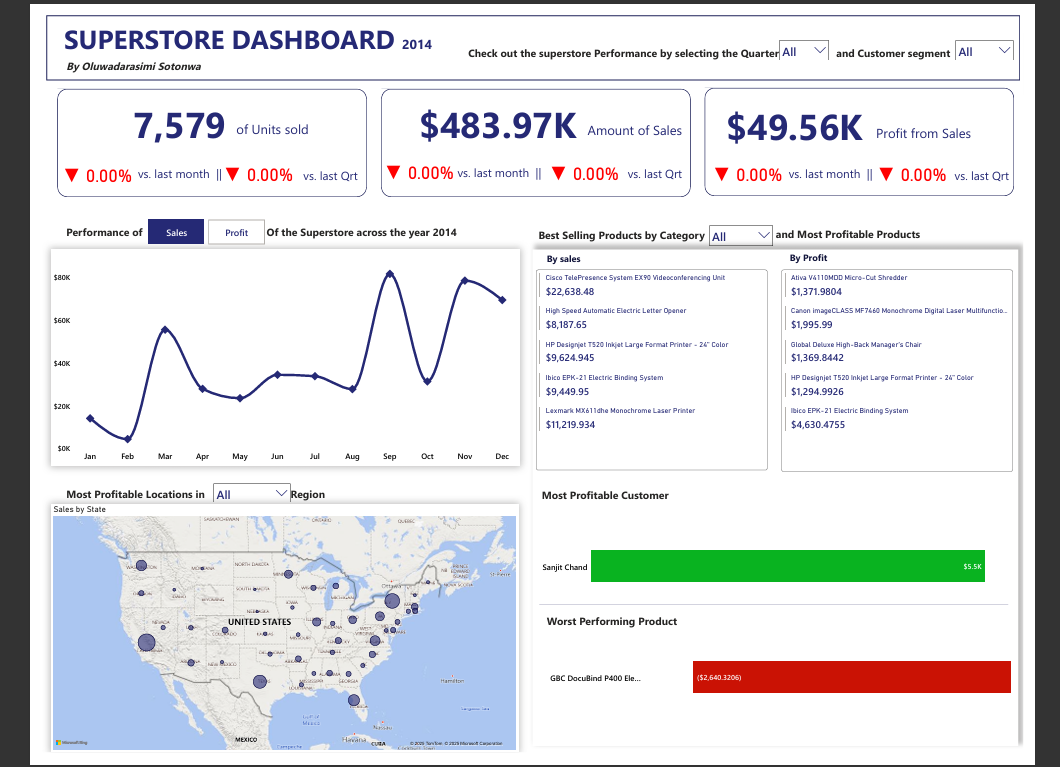

What the dashboard file says about the page in this screenshot:
{"tool":"powerbi","page":{"name":"Page 3","canvas":[2000,1500],"ordinal":0},"visuals":[{"type":"shape","box":[1000,476.2,990.5,1011.9],"z":0},{"type":"shape","box":[31.8,148.8,630,220],"z":1000},{"type":"shape","box":[9.5,0,1983.3,131],"z":2000},{"type":"textbox","box":[40.4,4.3,870.2,100],"z":3000},{"type":"card","fields":{"Values":["_Sales_Measures.Total units sold"]},"box":[115.6,151.8,330,130],"z":4000},{"type":"shape","box":[691.5,148.8,630,220],"z":5000},{"type":"card","fields":{"Values":["_Sales_Measures.Total sum of sales"]},"box":[751.2,151.2,355.8,130.2],"z":6000},{"type":"textbox","box":[383.7,207,286,79.1],"z":7000},{"type":"textbox","box":[1107,209.3,230.2,60.5],"z":8000},{"type":"card","fields":{"Values":["_Sales_Measures.MomSales trend icon"]},"box":[679.1,278.6,179.1,76.7],"z":9000},{"type":"textbox","box":[841.9,297.2,230.2,60.5],"z":10000},{"type":"shape","box":[1351.2,146.5,630.2,220.9],"z":11000},{"type":"card","fields":{"Values":["_Profit_measures.Total sum of profit"]},"box":[1355.8,155.8,355.8,130],"z":12000},{"type":"textbox","box":[1695.3,214,230.2,60.5],"z":13000},{"type":"card","fields":{"Values":["_Profit_measures.MomProfit trend icon"]},"box":[1346.8,283,180.9,76.6],"z":14000},{"type":"textbox","box":[1517,300,229.8,59.6],"z":15000},{"type":"textbox","box":[864.3,54.8,764.3,47.6],"z":16000},{"type":"textbox","box":[1519,473.8,300,47.6],"z":17000},{"type":"card","fields":{"Values":["_Sales_Measures.MomQty trend icon"]},"box":[23.3,283.7,179.1,76.7],"z":18000},{"type":"card","fields":{"Values":["_Sales_Measures.QOQSales trend icon"]},"box":[1014.9,280.9,178.7,76.6],"z":19000},{"type":"card","fields":{"Values":["_Profit_measures.QOQProfit trend icon"]},"box":[1683,283,178.7,76.6],"z":20000},{"type":"textbox","box":[1189.4,300,159.6,61.7],"z":21000},{"type":"textbox","box":[1855.3,304.3,138.3,61.7],"z":22000},{"type":"textbox","box":[527.7,304.3,159.6,61.7],"z":23000},{"type":"textbox","box":[191.5,300,231.9,59.6],"z":24000},{"type":"card","fields":{"Values":["_Sales_Measures.QOQQty trend icon"]},"box":[351.1,283,178.7,76.6],"z":25000},{"type":"lineChart","fields":{"Y":["_Sales_Measures.Total sum of sales"],"Category":["Date.Month_name","Date.Weekday"]},"box":[19,476.2,954.8,440.5],"z":26000},{"type":"advancedSlicerVisual","fields":{"Values":["Overview.Overview"]},"box":[212.8,410.6,246.8,59.6],"z":27000},{"type":"multiRowCard","fields":{"Values":["Products.Product Name","_Sales_Measures.Total sum of sales"]},"box":[1007.1,516.7,471.4,409.5],"z":28000},{"type":"multiRowCard","fields":{"Values":["Products.Product Name","_Profit_measures.Total sum of profit"]},"box":[1507.1,516.7,471.4,411.9],"z":29000},{"type":"clusteredBarChart","fields":{"Category":["Customers.Customer Name"],"Y":["_Profit_measures.Total sum of profit"]},"box":[1014.3,985.7,964.3,266.7],"z":30000},{"type":"map","fields":{"Size":["_Sales_Measures.Total sum of sales"],"Category":["Country.State"]},"box":[19,995.2,952.4,504.8],"z":31000},{"type":"textbox","box":[1007.1,426.2,490.5,47.6],"z":32000},{"type":"textbox","box":[1478.6,423.8,502.4,47.6],"z":33000},{"type":"textbox","box":[45.2,421.4,197.6,54.8],"z":34000},{"type":"textbox","box":[453.2,421.3,446.8,51.1],"z":35000},{"type":"clusteredBarChart","fields":{"Category":["Products.Product Name"],"Y":["_Profit_measures.Total sum of profit"]},"box":[1014.3,1214.3,964.3,264.3],"z":36000},{"type":"slicer","fields":{"Values":["Segments.Segment"]},"box":[1852.4,40.5,138.1,50],"z":37000},{"type":"textbox","box":[45.2,954.8,309.5,50],"z":38000},{"type":"textbox","box":[1023.8,1214.3,495.2,50],"z":39000},{"type":"slicer","fields":{"Values":["Regions.Region"]},"box":[340.5,942.9,176.2,47.6],"z":40000},{"type":"textbox","box":[502.4,954.8,207.1,47.6],"z":41000},{"type":"textbox","box":[1014.3,957.1,361.9,50],"z":42000},{"type":"shape","box":[1014.3,1181,954.8,35.7],"z":43000},{"type":"textbox","box":[44.7,83,466,48.9],"z":44000},{"type":"textbox","box":[1023.8,476.2,300,47.6],"z":45000},{"type":"slicer","fields":{"Values":["Products.Category"]},"box":[1350,416.7,150,59.5],"z":46000},{"type":"textbox","box":[1614.3,54.8,273.8,54.8],"z":47000},{"type":"slicer","fields":{"Values":["Date.Quarter"]},"box":[1492.9,40.5,121.4,50],"z":48000}]}

Visuals, with their boxes on the page's 2000x1500 design canvas (x1, y1, x2, y2). These are canvas units, not pixel positions in the 1060x767 screenshot, which may show the page scaled, cropped or inside an application window:
shape: (left=1000, top=476, right=1990, bottom=1488)
shape: (left=32, top=149, right=662, bottom=369)
shape: (left=10, top=0, right=1993, bottom=131)
textbox: (left=40, top=4, right=911, bottom=104)
card - _Sales_Measures.Total units sold: (left=116, top=152, right=446, bottom=282)
shape: (left=692, top=149, right=1322, bottom=369)
card - _Sales_Measures.Total sum of sales: (left=751, top=151, right=1107, bottom=281)
textbox: (left=384, top=207, right=670, bottom=286)
textbox: (left=1107, top=209, right=1337, bottom=270)
card - _Sales_Measures.MomSales trend icon: (left=679, top=279, right=858, bottom=355)
textbox: (left=842, top=297, right=1072, bottom=358)
shape: (left=1351, top=146, right=1981, bottom=367)
card - _Profit_measures.Total sum of profit: (left=1356, top=156, right=1712, bottom=286)
textbox: (left=1695, top=214, right=1926, bottom=274)
card - _Profit_measures.MomProfit trend icon: (left=1347, top=283, right=1528, bottom=360)
textbox: (left=1517, top=300, right=1747, bottom=360)
textbox: (left=864, top=55, right=1629, bottom=102)
textbox: (left=1519, top=474, right=1819, bottom=521)
card - _Sales_Measures.MomQty trend icon: (left=23, top=284, right=202, bottom=360)
card - _Sales_Measures.QOQSales trend icon: (left=1015, top=281, right=1194, bottom=358)
card - _Profit_measures.QOQProfit trend icon: (left=1683, top=283, right=1862, bottom=360)
textbox: (left=1189, top=300, right=1349, bottom=362)
textbox: (left=1855, top=304, right=1994, bottom=366)
textbox: (left=528, top=304, right=687, bottom=366)
textbox: (left=192, top=300, right=423, bottom=360)
card - _Sales_Measures.QOQQty trend icon: (left=351, top=283, right=530, bottom=360)
lineChart - _Sales_Measures.Total sum of sales x Date.Month_name: (left=19, top=476, right=974, bottom=917)
advancedSlicerVisual - Overview.Overview: (left=213, top=411, right=460, bottom=470)
multiRowCard - Products.Product Name x _Sales_Measures.Total sum of sales: (left=1007, top=517, right=1478, bottom=926)
multiRowCard - Products.Product Name x _Profit_measures.Total sum of profit: (left=1507, top=517, right=1978, bottom=929)
clusteredBarChart - Customers.Customer Name x _Profit_measures.Total sum of profit: (left=1014, top=986, right=1979, bottom=1252)
map - _Sales_Measures.Total sum of sales x Country.State: (left=19, top=995, right=971, bottom=1500)
textbox: (left=1007, top=426, right=1498, bottom=474)
textbox: (left=1479, top=424, right=1981, bottom=471)
textbox: (left=45, top=421, right=243, bottom=476)
textbox: (left=453, top=421, right=900, bottom=472)
clusteredBarChart - Products.Product Name x _Profit_measures.Total sum of profit: (left=1014, top=1214, right=1979, bottom=1479)
slicer - Segments.Segment: (left=1852, top=40, right=1990, bottom=90)
textbox: (left=45, top=955, right=355, bottom=1005)
textbox: (left=1024, top=1214, right=1519, bottom=1264)
slicer - Regions.Region: (left=340, top=943, right=517, bottom=990)
textbox: (left=502, top=955, right=710, bottom=1002)
textbox: (left=1014, top=957, right=1376, bottom=1007)
shape: (left=1014, top=1181, right=1969, bottom=1217)
textbox: (left=45, top=83, right=511, bottom=132)
textbox: (left=1024, top=476, right=1324, bottom=524)
slicer - Products.Category: (left=1350, top=417, right=1500, bottom=476)
textbox: (left=1614, top=55, right=1888, bottom=110)
slicer - Date.Quarter: (left=1493, top=40, right=1614, bottom=90)
